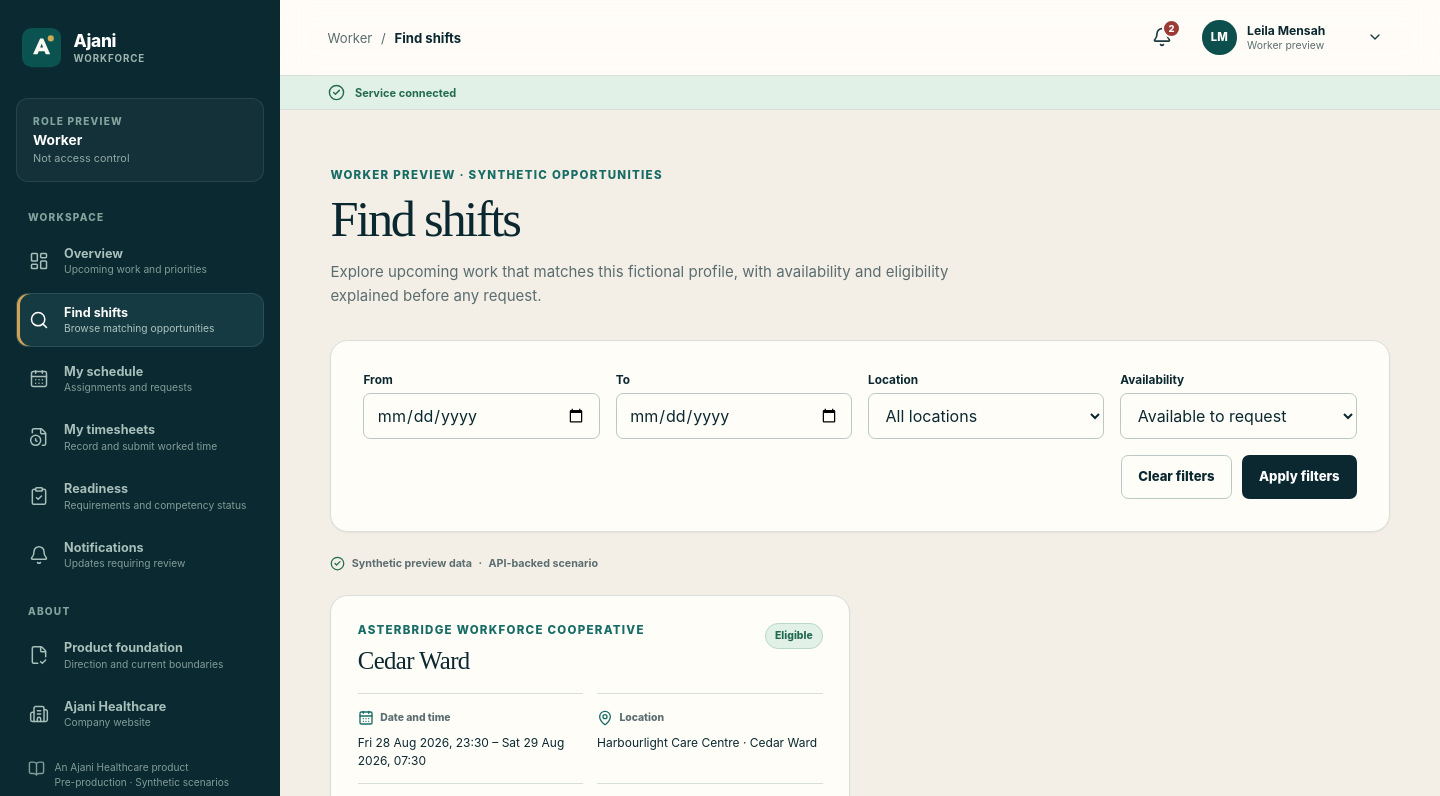
it: worker shift journey › loads Find shifts through the API and keeps applied filters in the URL
Expected: the heading "Find shifts" is shown, [330, 191, 520, 247]
Expected: the heading "Cedar Ward" is shown, [358, 647, 470, 674]
In the date field labelled "From": (482, 416) [363, 393, 600, 439], type "2026-08-28"
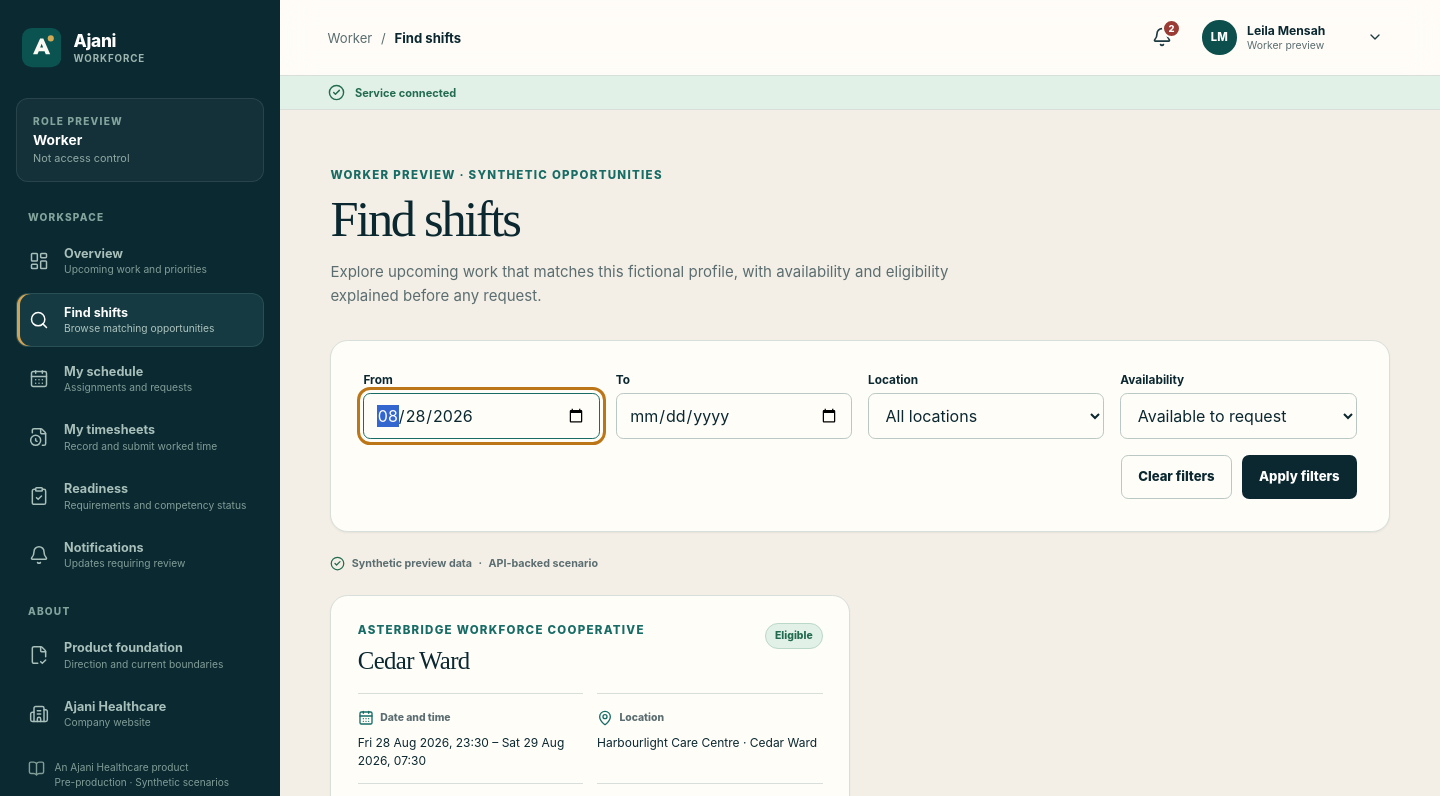
Select "Harbourlight Care Centre" in the dropdown labelled "Location": (986, 416) [868, 393, 1104, 439]
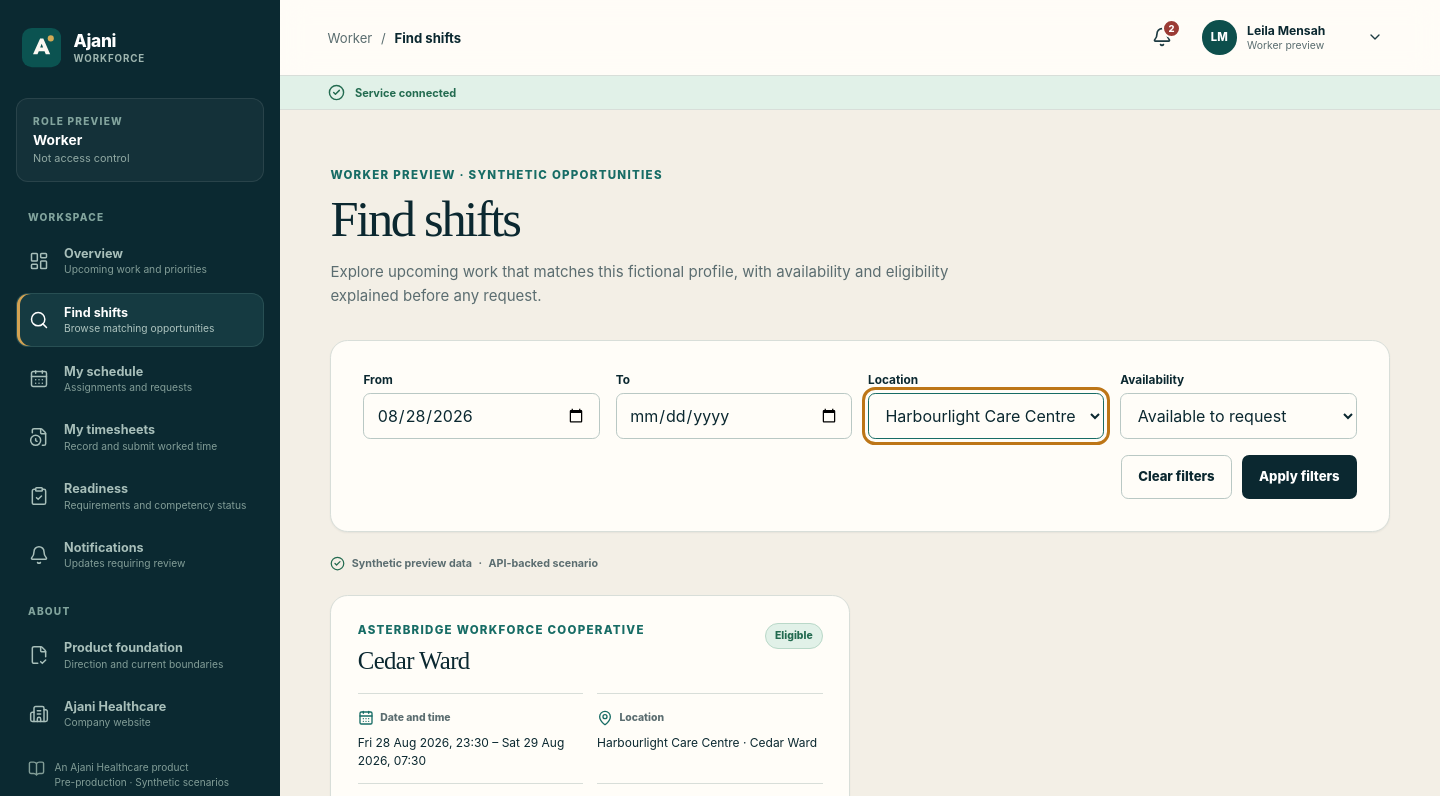
Click the button "Apply filters": (1299, 477) [1242, 455, 1357, 499]
(page scrolled)
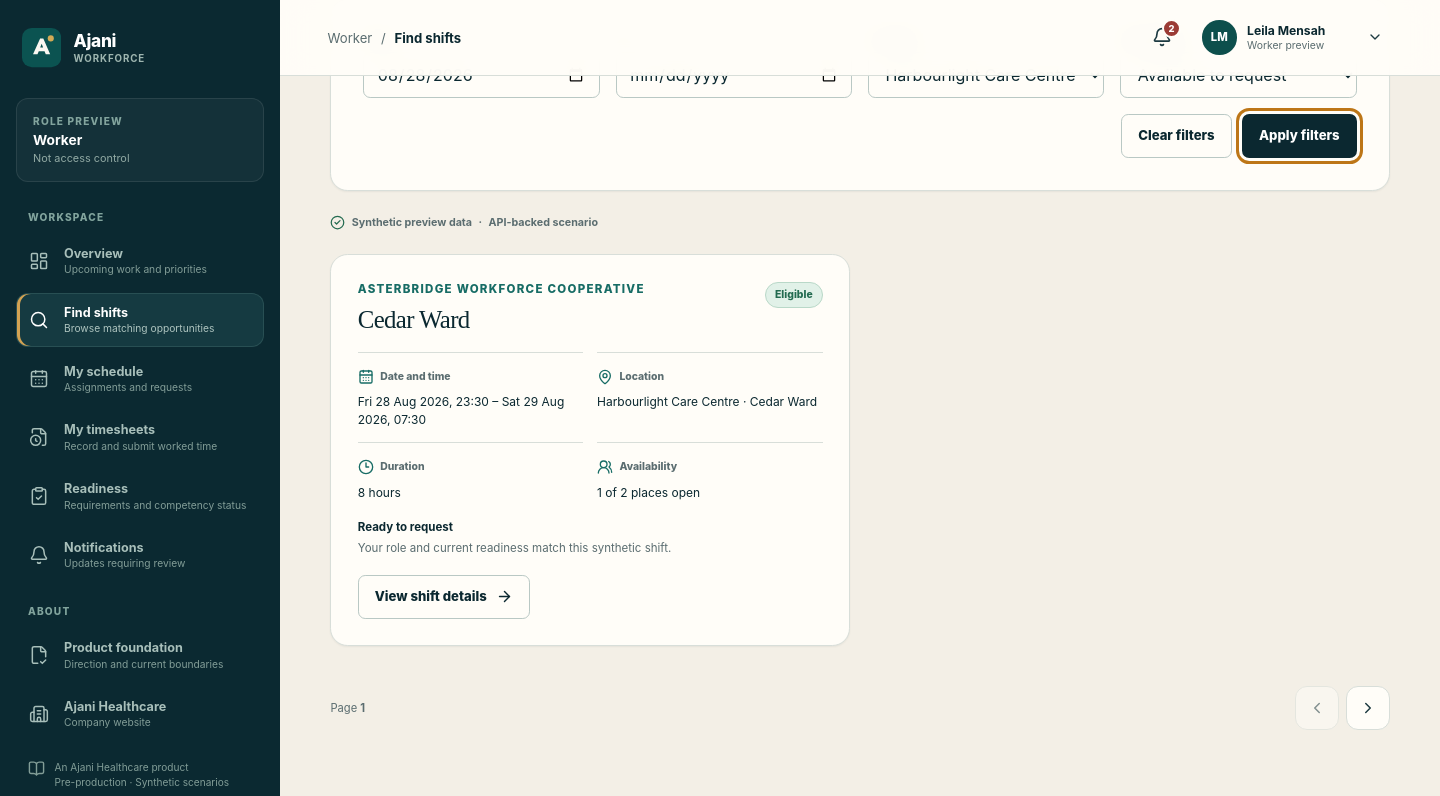
Click the button named "next page": (1368, 708) [1346, 686, 1390, 730]
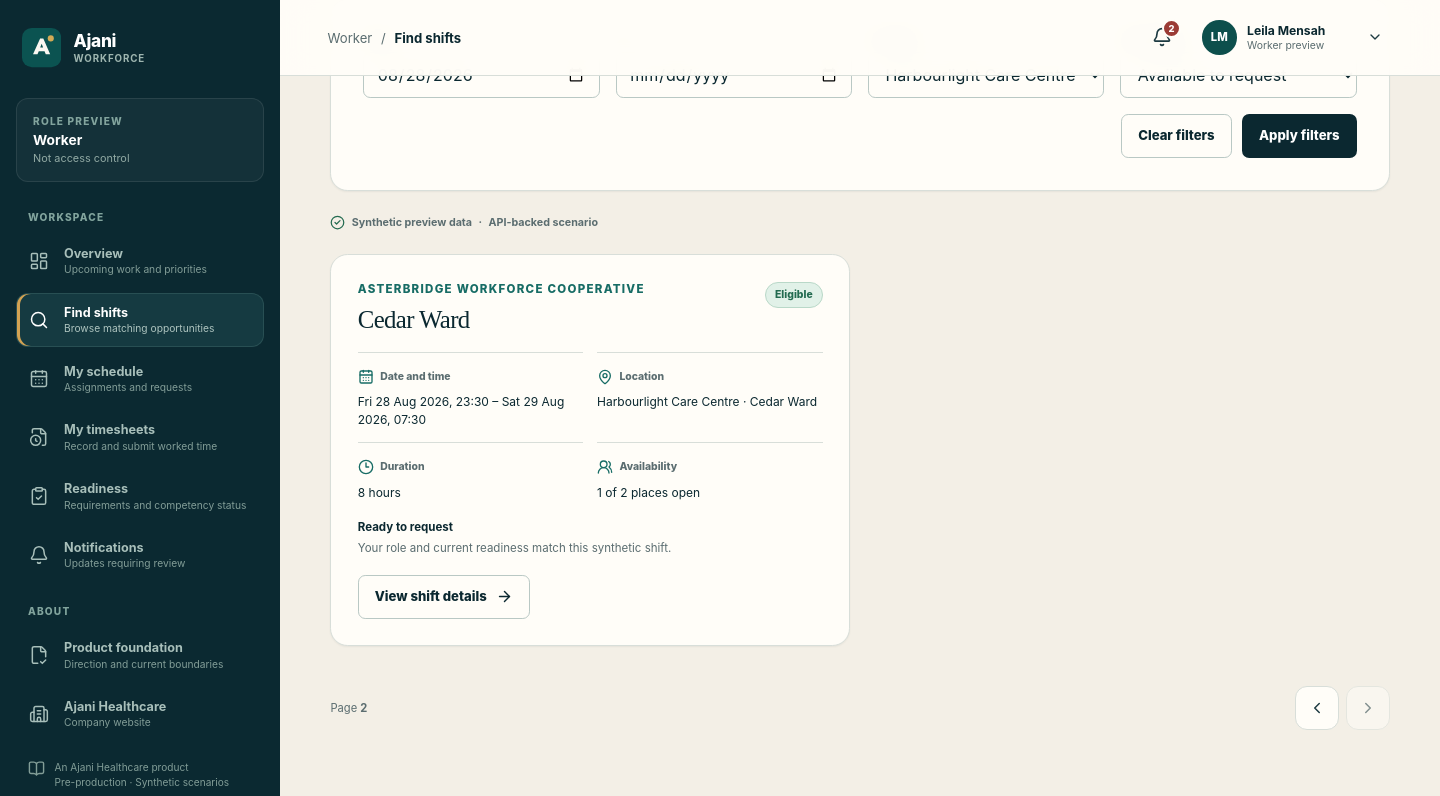
Click the button "Clear filters": (1176, 136) [1121, 114, 1232, 158]
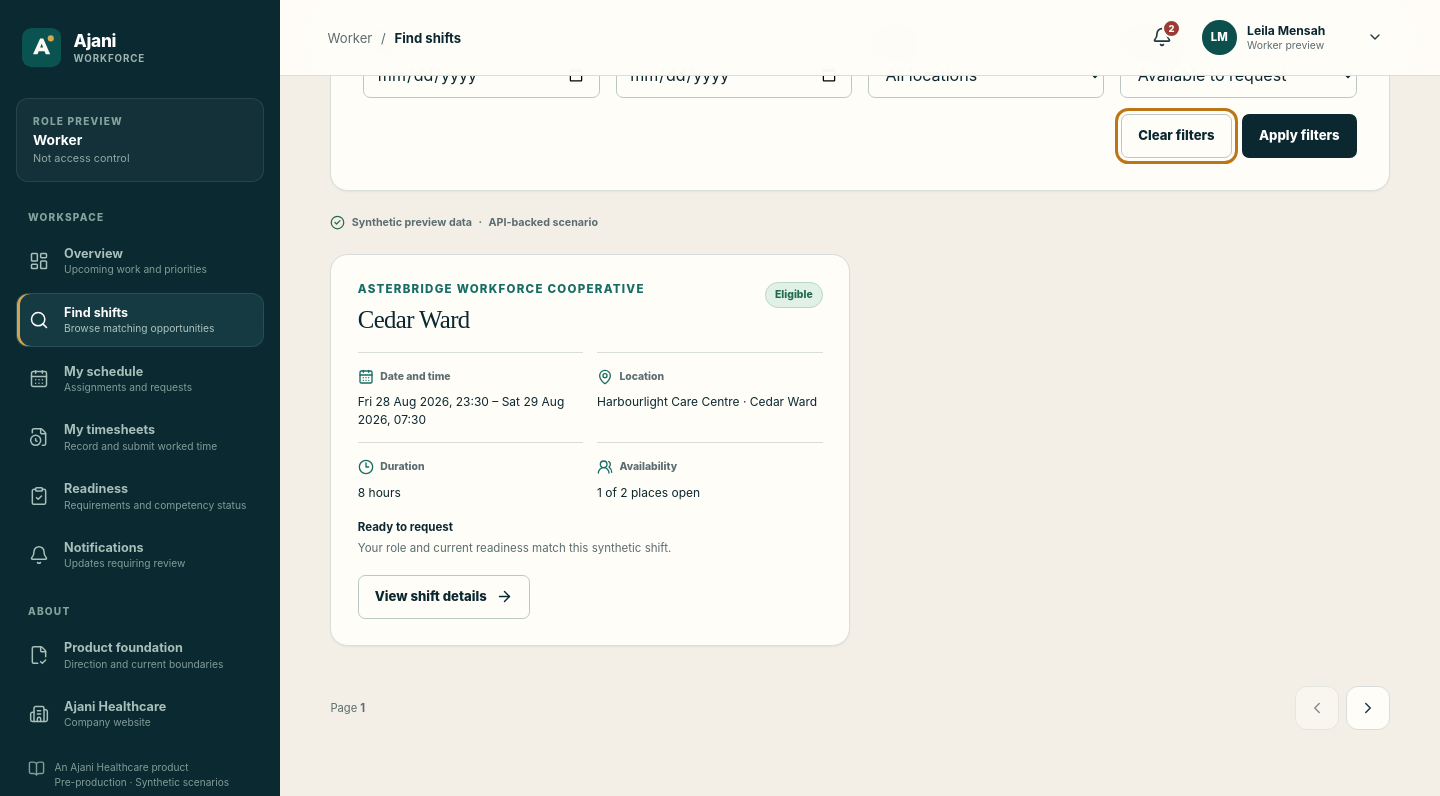
Now the date field labelled "From" is empty, box [363, 52, 600, 98]
